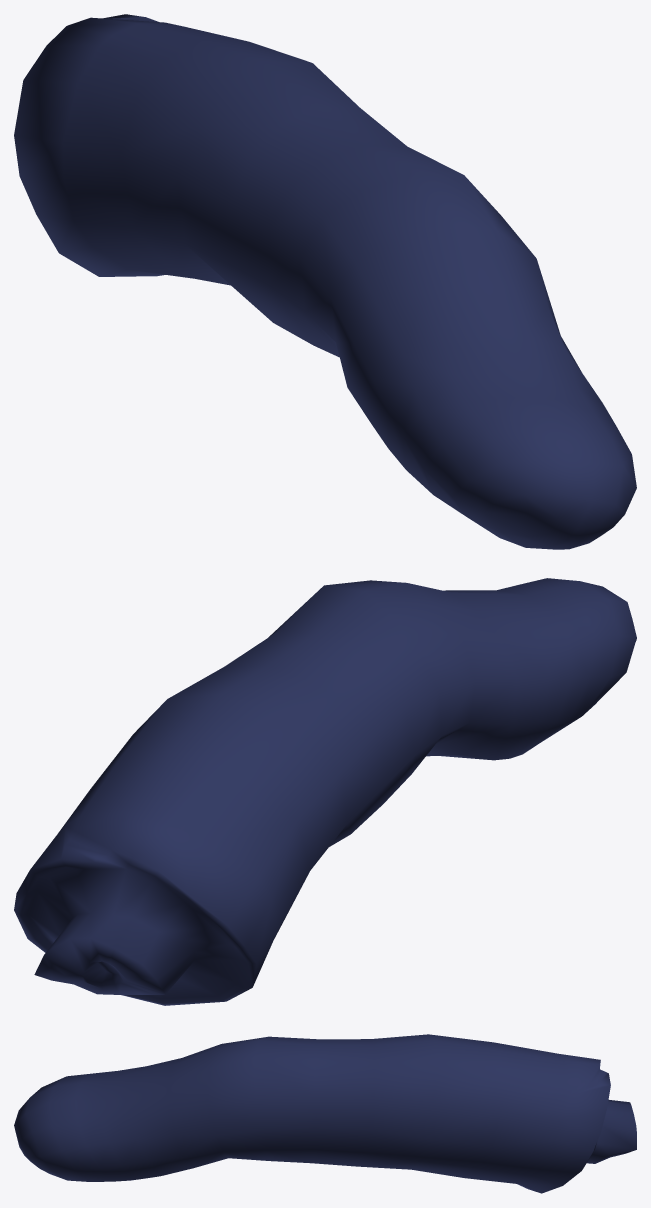
File: MiddleFinger.FBX
3 views of the same model, one above another, from view 1: azimuth 30°, elevation 25°; view 2: azimuth 150°, elevation 25°; view 3: azimuth 270°, elevation 25° (orthographic). The views are drawn at different scales.
Parts seen in each view (by area): view 1: MiddleFinger; view 2: MiddleFinger; view 3: MiddleFinger.
Part boxes in pixels (left/top/right/bottom): MiddleFinger: left=14, top=14, right=636, bottom=549; MiddleFinger: left=14, top=578, right=636, bottom=1005; MiddleFinger: left=14, top=1034, right=636, bottom=1193.
Size of the model in its own units: 2.62 by 2.88 by 10.5.
